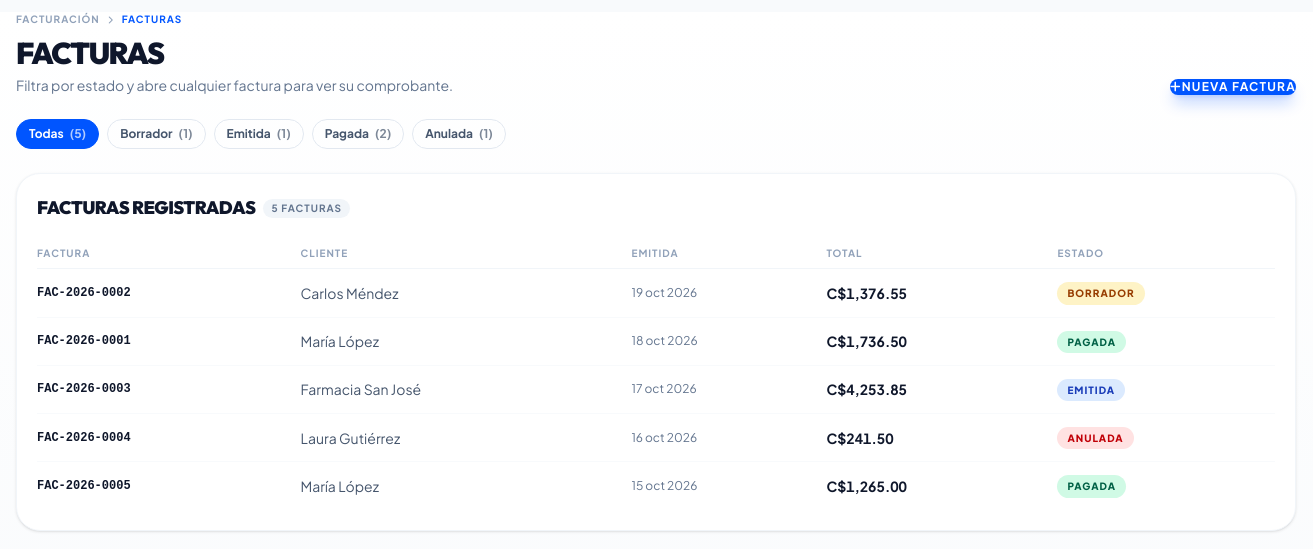
InvoicesComponent › debe filtrar por estado y actualizar el estado vacío
What coordinates should you click on to do the following:
click the button with test id "billing-filter-borrador"
I would click on:
 (156, 134)
Its box is [107,119,206,149].
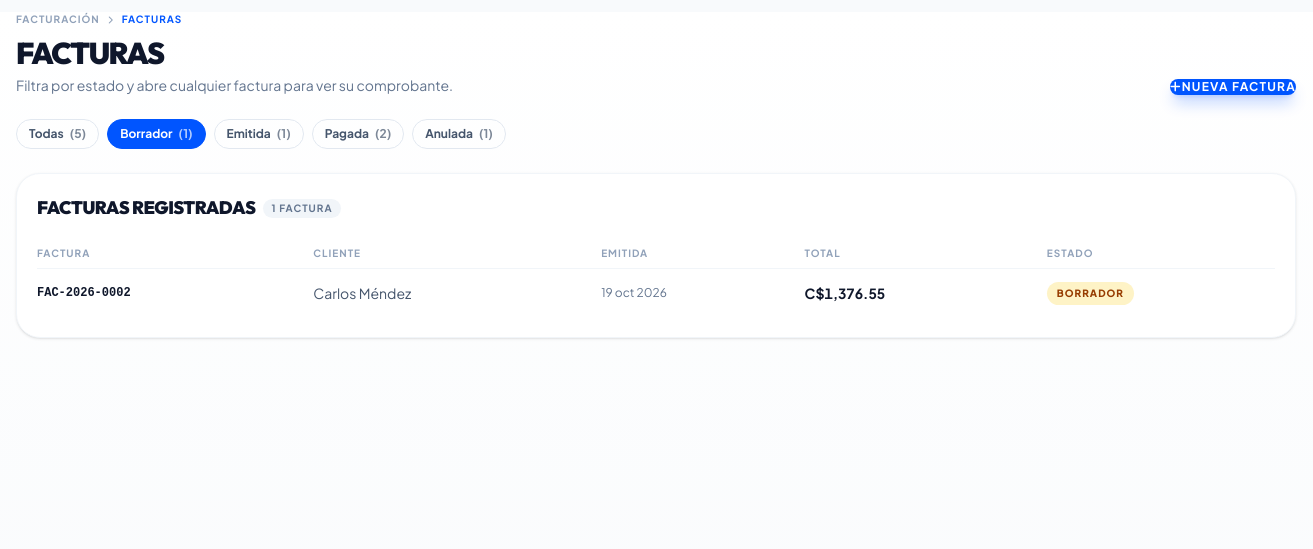
Expected: the text "FAC-2026-0002" is shown, [37,286,131,300]
Expected: the number of rows with test id "billing-invoice-row" is 1, [37,269,1275,317]
